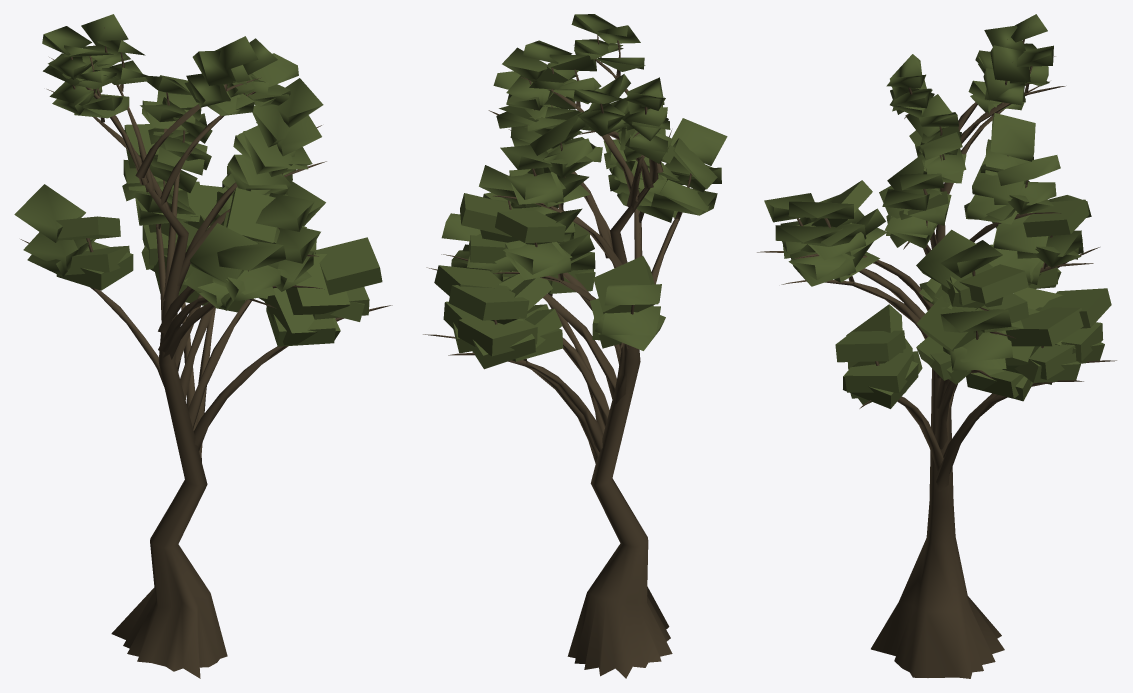
File: Tree_BaldCypress_005.fbx
3 renders of one model, left to right at view 1: azimuth 30°, elevation 25°; view 2: azimuth 150°, elevation 25°; view 3: azimuth 270°, elevation 25°, orthographic.
Parts seen in each view (by area): view 1: Tree_BaldCypress.005; view 2: Tree_BaldCypress.005; view 3: Tree_BaldCypress.005.
Part boxes in pixels (bbox=[...]): Tree_BaldCypress.005: bbox=[14, 14, 392, 678]; Tree_BaldCypress.005: bbox=[423, 14, 727, 678]; Tree_BaldCypress.005: bbox=[757, 14, 1116, 678].
Bounding box in the file's own units: 1072 × 2282 × 1228.
